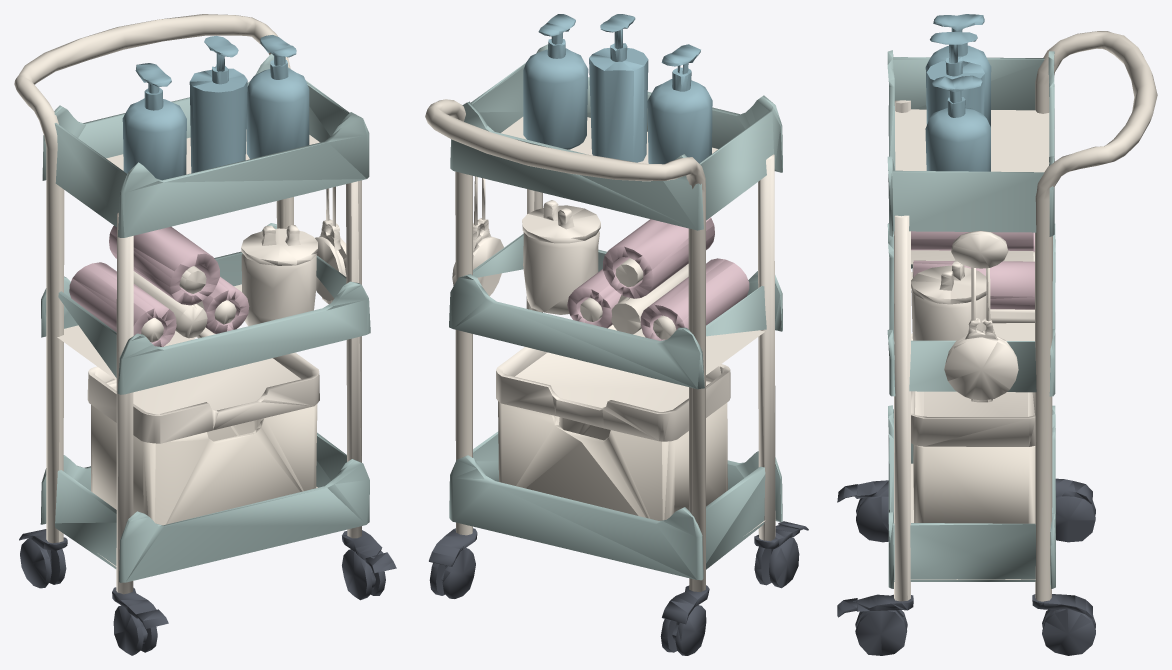
The model's file is bath_cart.glb.
3 renders of one model, left to right at view 1: azimuth 30°, elevation 25°; view 2: azimuth 150°, elevation 25°; view 3: azimuth 270°, elevation 25°, orthographic. The views are drawn at different scales.
Bounding box in the file's own units: 0.94 × 1.85 × 0.9579.
